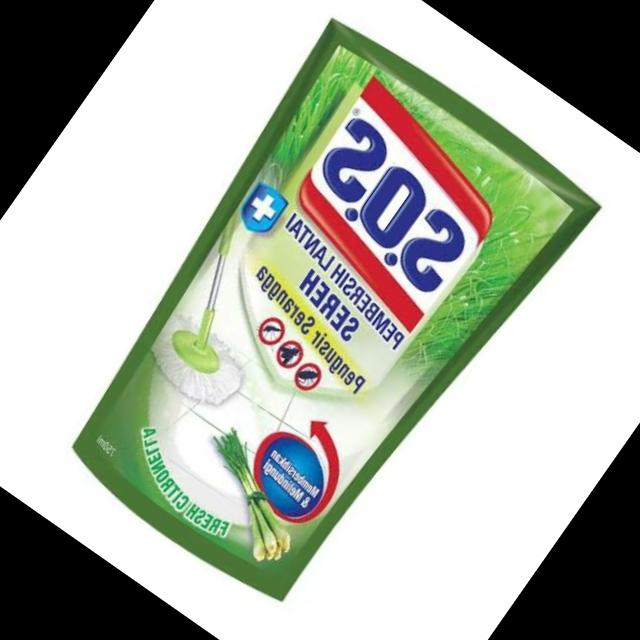KemasanPlastik: (32, 7, 610, 634)
